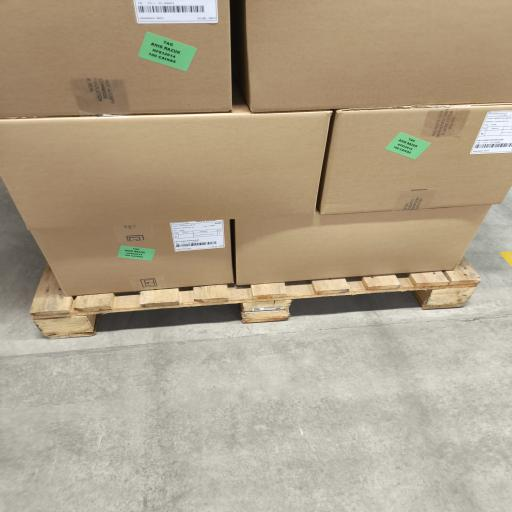pallet: (31, 259, 479, 338)
